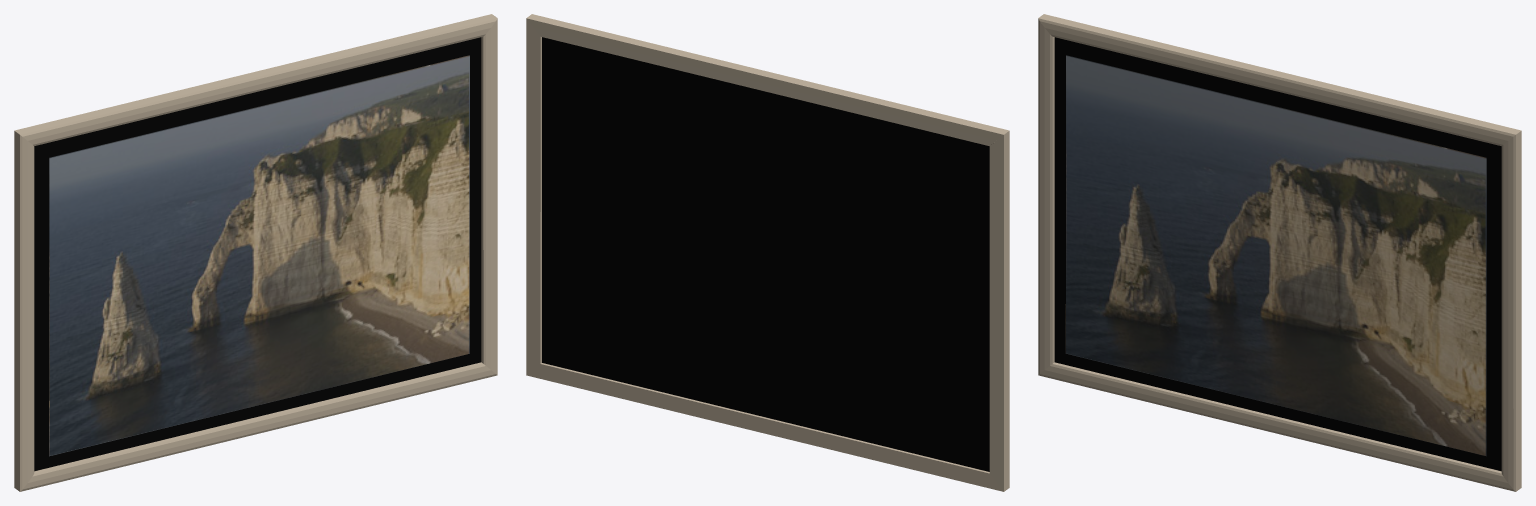
Rendered from EtretatFrame.obj.
The picture shows the model from 3 angles, left to right: view 1: azimuth 30°, elevation 25°; view 2: azimuth 150°, elevation 25°; view 3: azimuth 330°, elevation 25°; orthographic projection.
Visible parts, largest first — view 1: Photo_Cube_Material_Etretat, MetalFrame_Cylinder_Aluminium.003, Frame_Black_Material.004; view 2: Frame_Black_Material.004, MetalFrame_Cylinder_Aluminium.003; view 3: Photo_Cube_Material_Etretat, MetalFrame_Cylinder_Aluminium.003, Frame_Black_Material.004.
Boxes of the visible parts, <box> form: Photo_Cube_Material_Etretat: <box>49,55,469,456</box>; MetalFrame_Cylinder_Aluminium.003: <box>14,14,497,491</box>; Frame_Black_Material.004: <box>34,37,481,471</box>; Frame_Black_Material.004: <box>542,37,989,471</box>; MetalFrame_Cylinder_Aluminium.003: <box>526,14,1009,491</box>; Photo_Cube_Material_Etretat: <box>1065,55,1486,456</box>; MetalFrame_Cylinder_Aluminium.003: <box>1038,14,1521,491</box>; Frame_Black_Material.004: <box>1054,37,1501,471</box>.
Size of the model in its own units: 67 by 47.86 by 1.6.
Materials: 3 (1 with a texture image).
